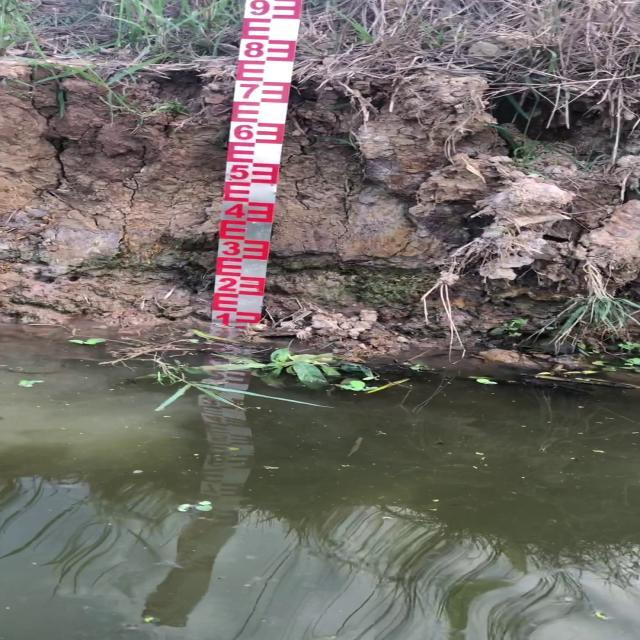ruler: (187, 0, 336, 370)
value: (238, 37, 267, 63), (233, 79, 262, 104), (229, 121, 258, 144), (225, 161, 253, 184), (214, 273, 242, 296), (221, 200, 249, 222), (242, 0, 273, 19), (218, 238, 245, 259)
